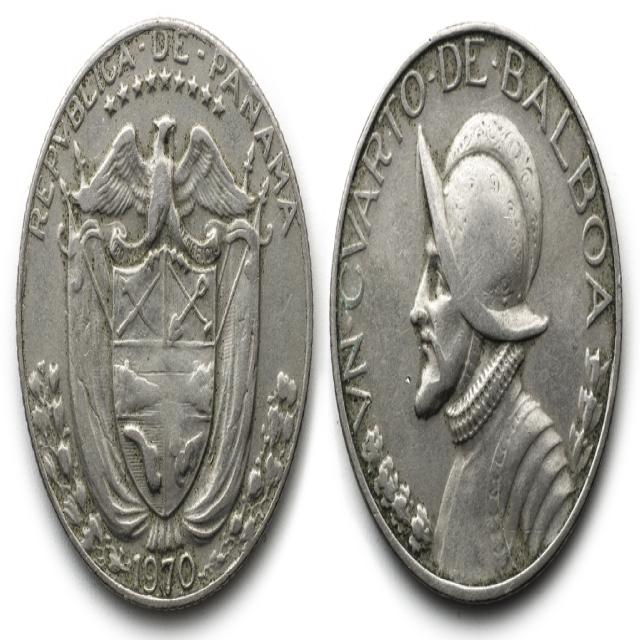Coin: (14, 8, 313, 604), (332, 29, 624, 603)
